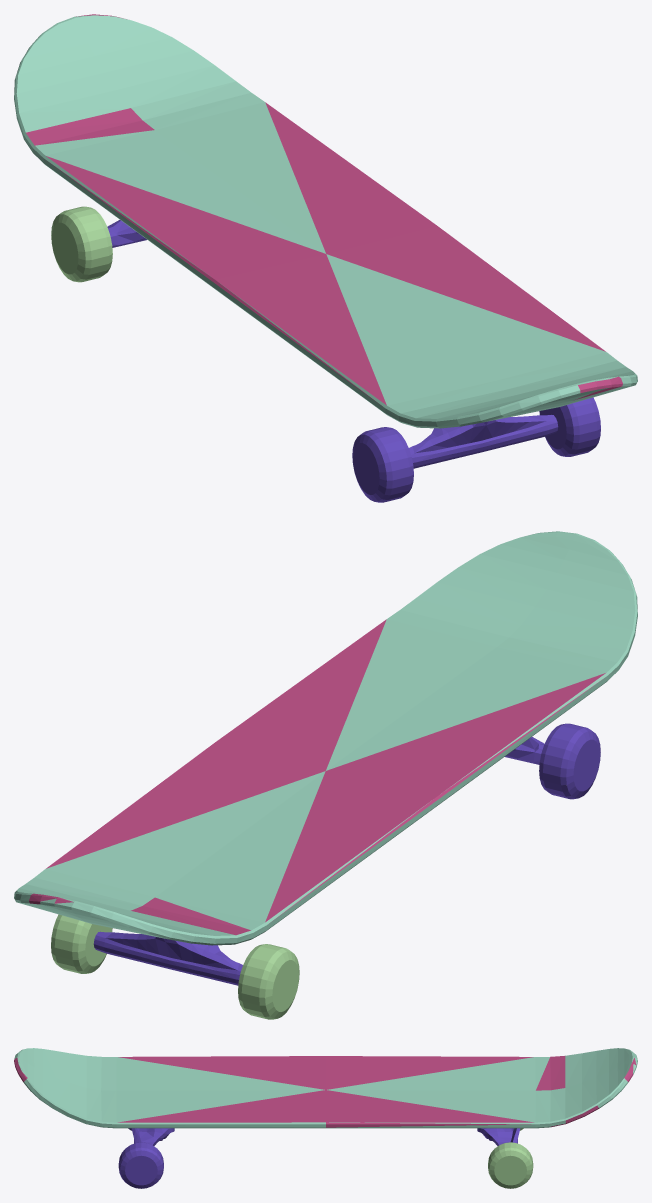
File: post.glb
The picture shows the model from 3 angles, top to bottom: view 1: azimuth 30°, elevation 25°; view 2: azimuth 150°, elevation 25°; view 3: azimuth 270°, elevation 25°; orthographic projection. The views are drawn at different scales.
Parts seen in each view (by area): view 1: world; view 2: world; view 3: world.
Part boxes in pixels (x1,y1,x2,y2): world: (14,14,637,502); world: (14,531,637,1019); world: (14,1048,637,1188).
Size of the model in its own units: 0.2563 by 0.1781 by 1.
